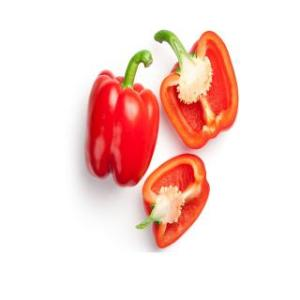bell_pepper: (82, 51, 160, 193)
